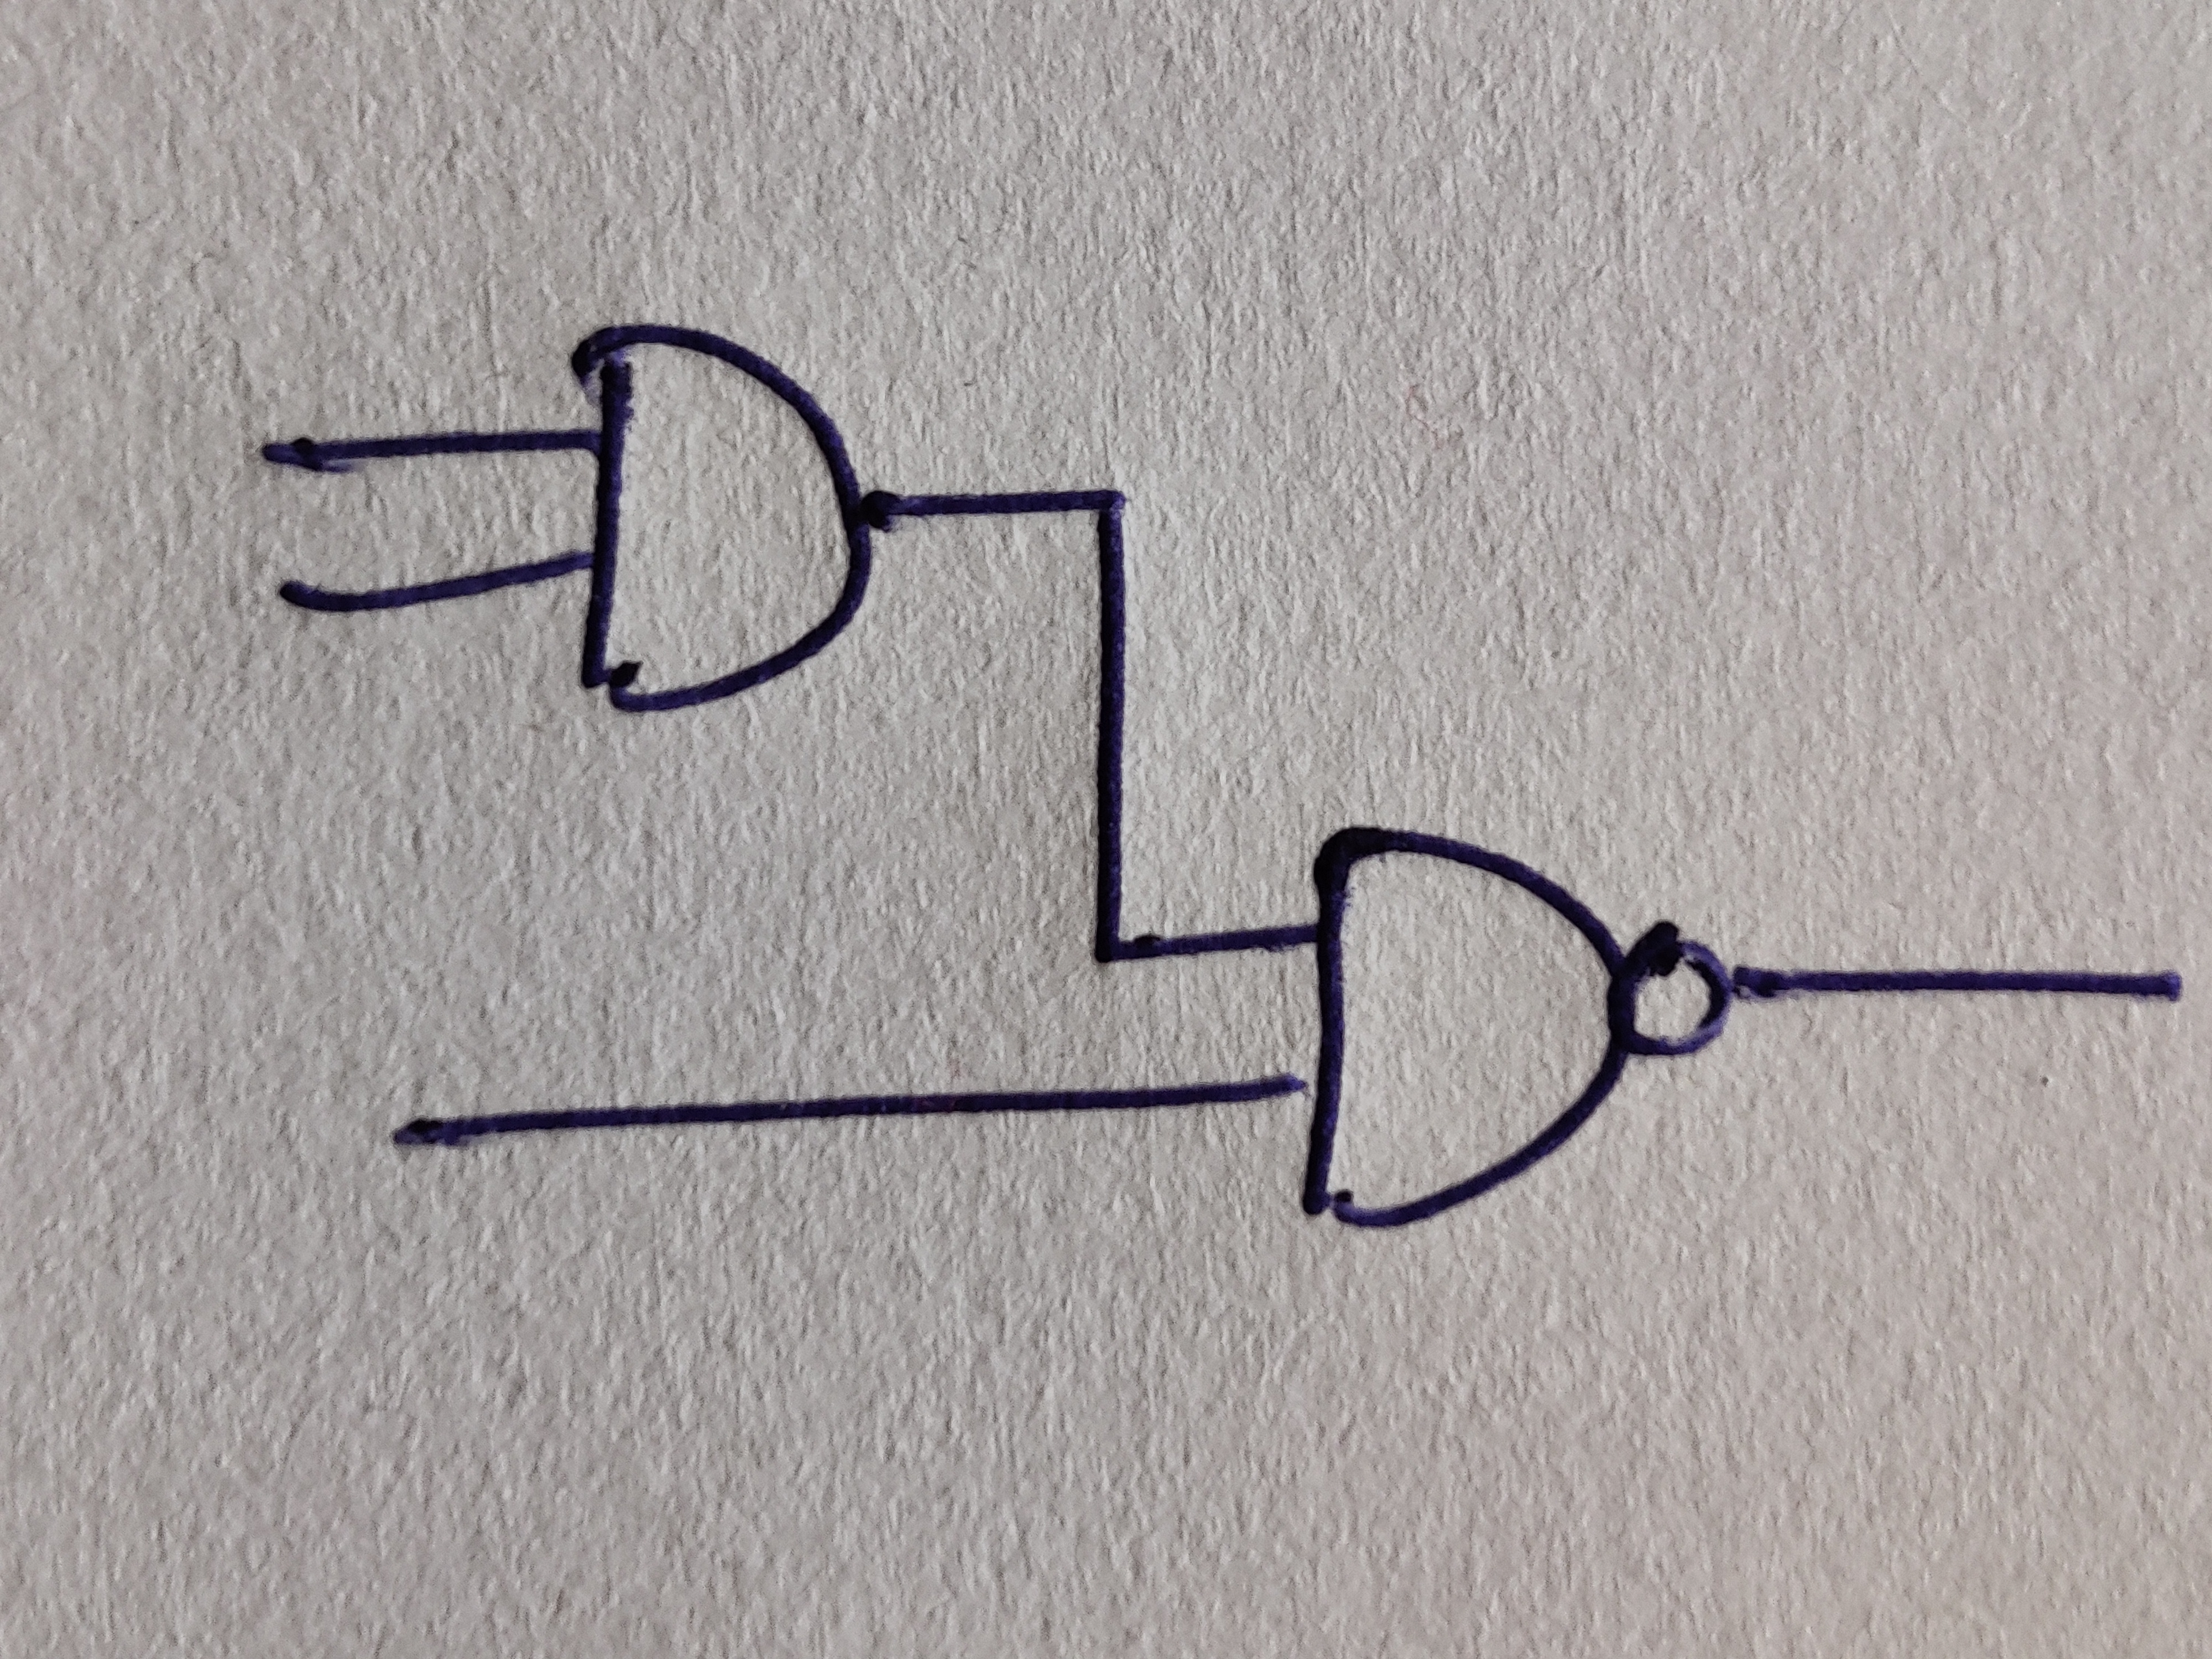and: (1303, 826, 1634, 1223), (568, 319, 873, 714)
not: (1625, 922, 1731, 1058)
